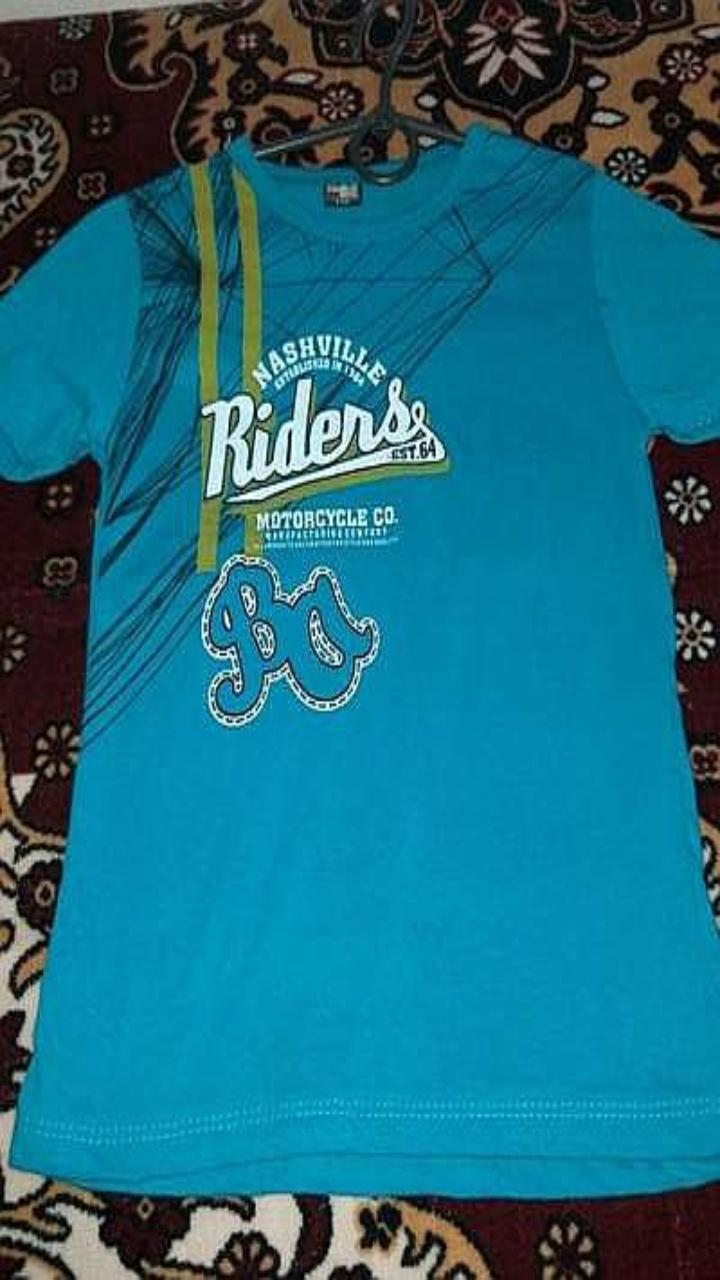T-Shirt: (0, 122, 719, 1197)
